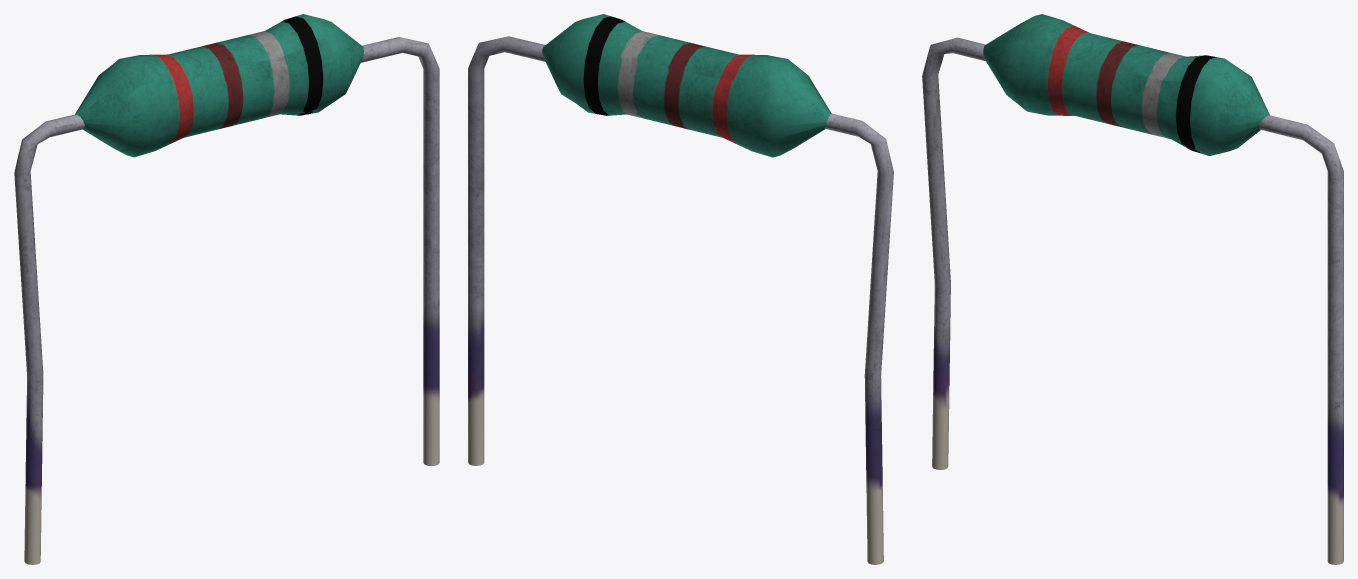
File: Inductor.glb
3 views of the same model, side by side, from view 1: azimuth 30°, elevation 25°; view 2: azimuth 150°, elevation 25°; view 3: azimuth 330°, elevation 25° (orthographic).
Visible parts, largest first — view 1: Cylinder002; view 2: Cylinder002; view 3: Cylinder002.
Part boxes in pixels (box(x1,y1,x2,y2)): Cylinder002: box(14, 14, 439, 564); Cylinder002: box(468, 14, 893, 564); Cylinder002: box(922, 14, 1343, 564).
Size of the model in its own units: 0.1352 by 0.1457 by 0.0221.
1 material, 1 textured.
